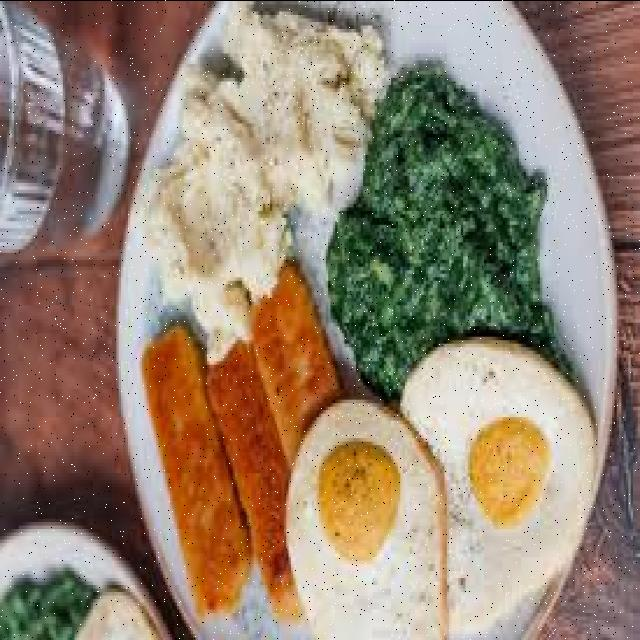Egg: (289, 339, 598, 640)
Fish: (142, 266, 337, 619)
Green veg: (328, 70, 556, 399)
Potato: (144, 3, 389, 360)
